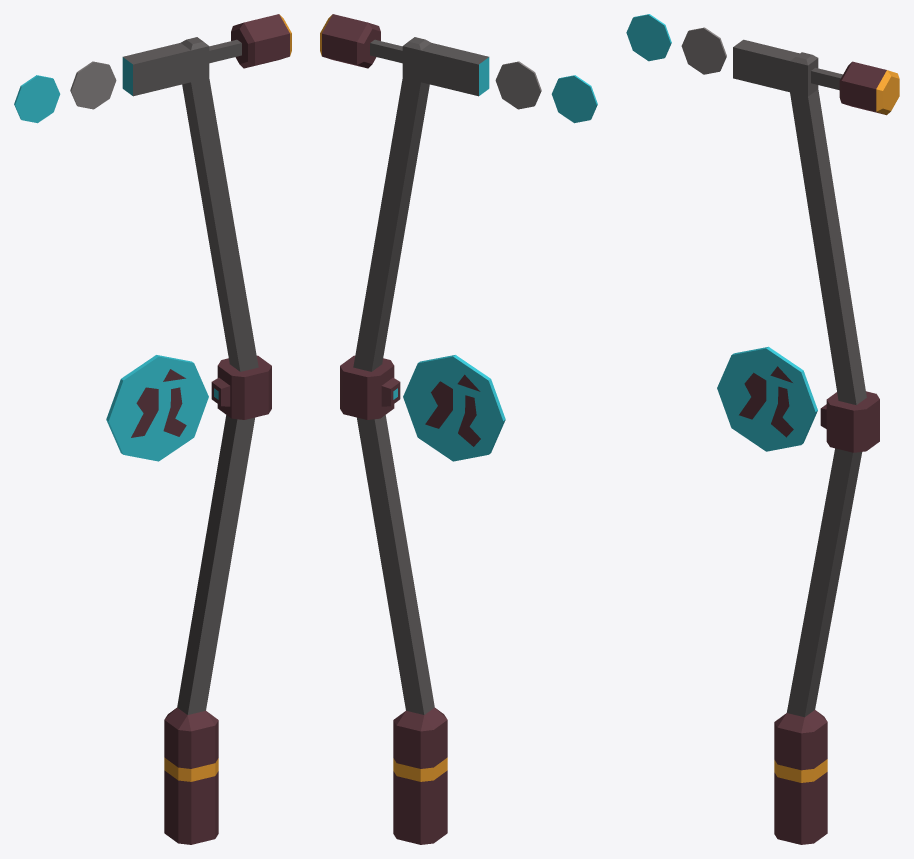
The model's file is scifi-traffic-lights-go.fbx.
The picture shows the model from 3 angles, left to right: view 1: azimuth 30°, elevation 25°; view 2: azimuth 150°, elevation 25°; view 3: azimuth 330°, elevation 25°; orthographic projection.
Parts seen in each view (by area): view 1: scifi-traffic-lights-go; view 2: scifi-traffic-lights-go; view 3: scifi-traffic-lights-go.
Boxes of the visible parts, box(x1,y1,x2,y2) form: scifi-traffic-lights-go: box(14, 14, 291, 844); scifi-traffic-lights-go: box(320, 14, 597, 844); scifi-traffic-lights-go: box(626, 14, 899, 844).
Bounding box in the file's own units: 3.12 × 8.84 × 0.4698.
